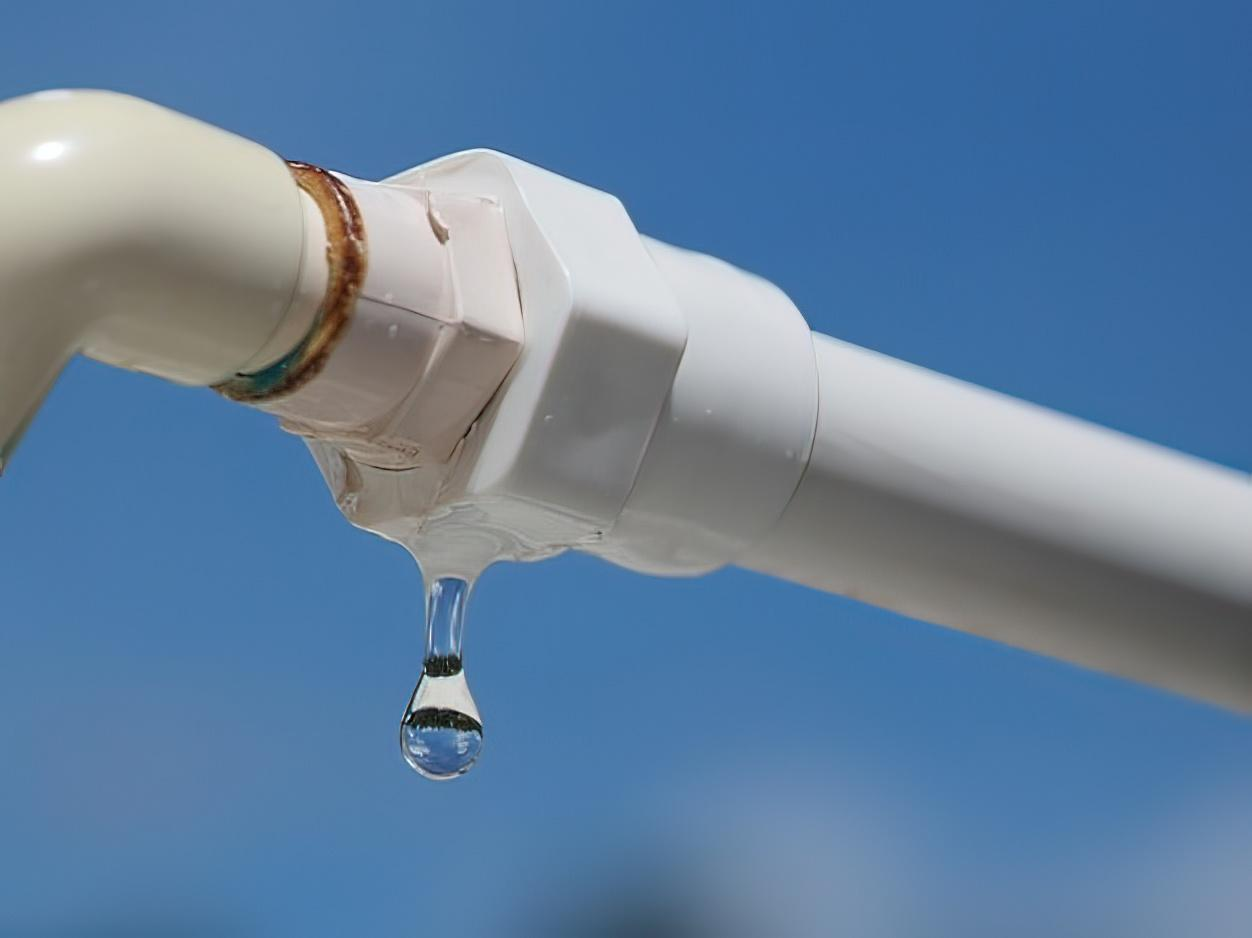water drop: (397, 523, 502, 781)
